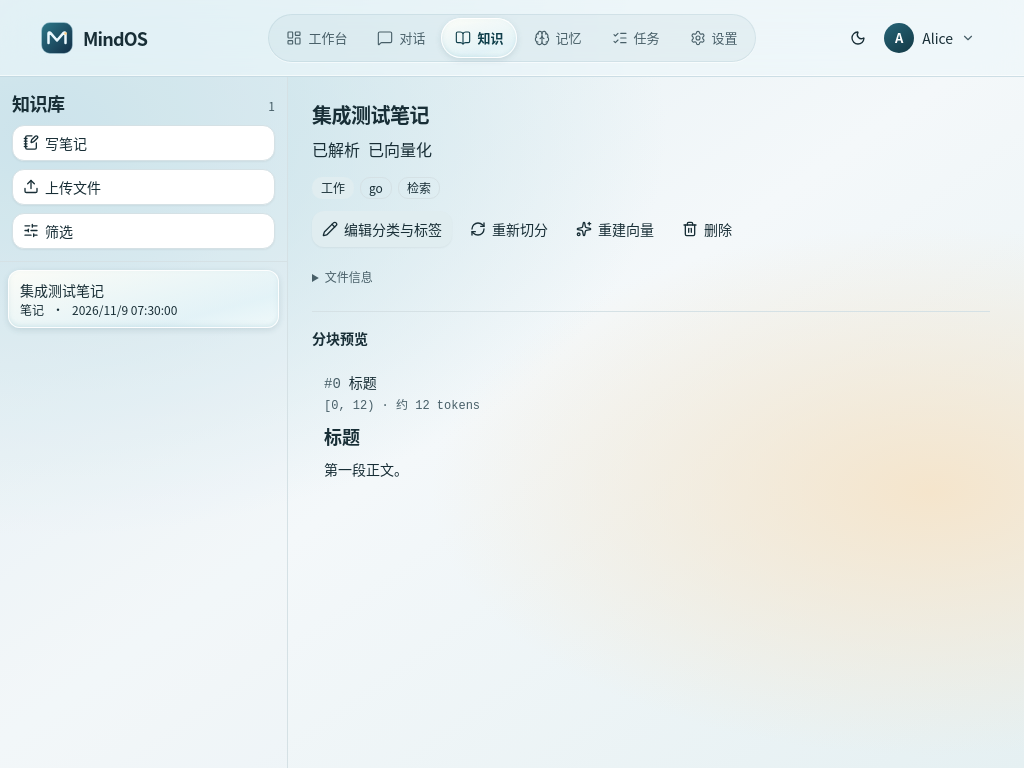
Test: 知识库页面的文档管理 › 详情保留分类、标签与可展开的文件信息
The width and height of the screenshot is (1024, 768).
Click the heading "文件信息".
click(349, 276)  # box left=325, top=268, right=373, bottom=285
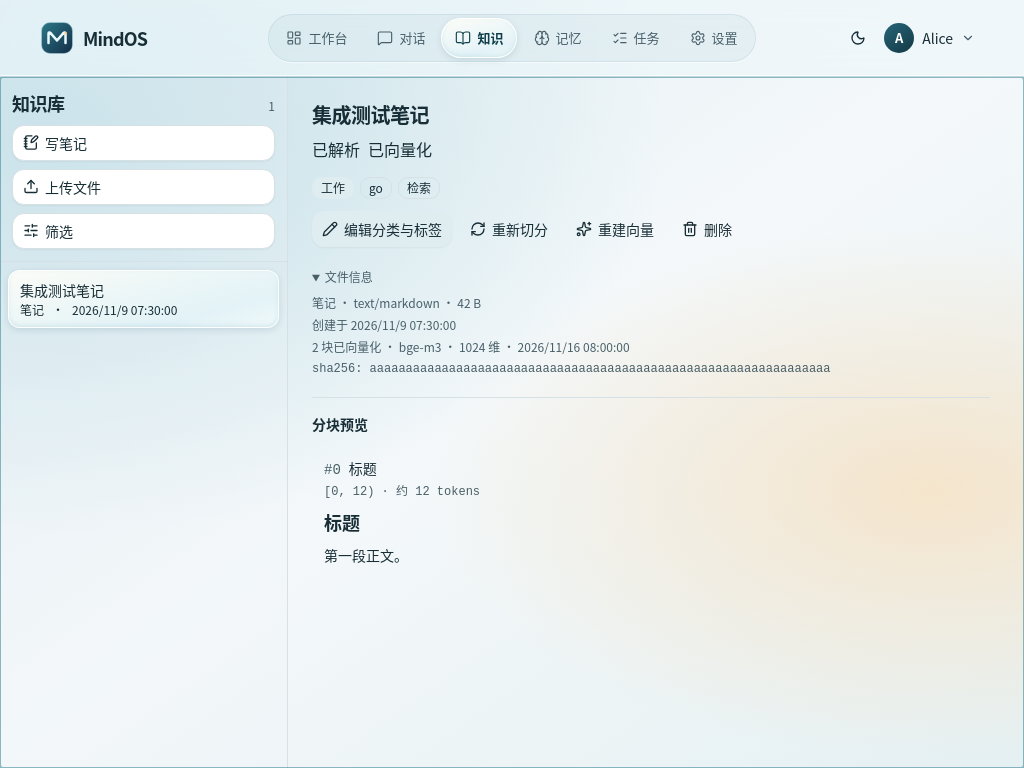
Expected: the text "工作" is shown, left=312, top=177, right=354, bottom=199
Now the text "sha256:" is shown, box left=312, top=362, right=370, bottom=376
